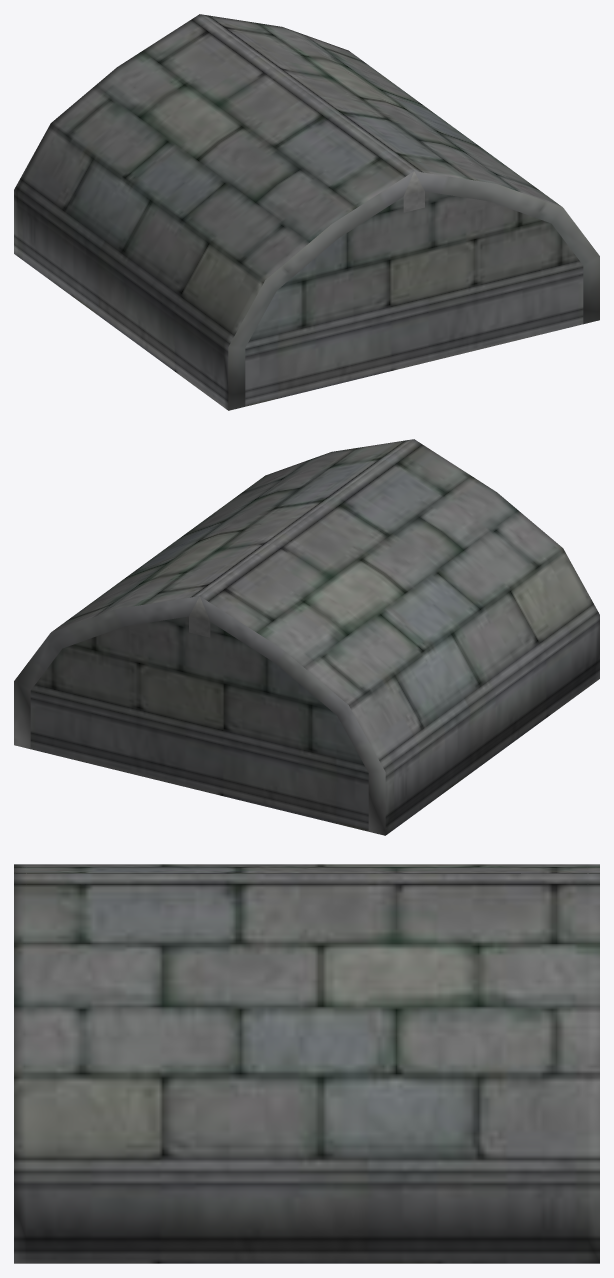
The model's file is sd_barrel_ceiling_large_03.glb.
3 views of the same model, one above another, from view 1: azimuth 30°, elevation 25°; view 2: azimuth 150°, elevation 25°; view 3: azimuth 270°, elevation 25° (orthographic). The views are drawn at different scales.
Visible parts, largest first — view 1: barrel_ceiling_large_03; view 2: barrel_ceiling_large_03; view 3: barrel_ceiling_large_03.
Boxes of the visible parts, bbox=[...] form: barrel_ceiling_large_03: bbox=[14, 14, 599, 410]; barrel_ceiling_large_03: bbox=[14, 439, 599, 835]; barrel_ceiling_large_03: bbox=[14, 864, 599, 1263].
Bounding box in the file's own units: 4 × 2 × 4.
Materials: 1 (1 with a texture image).
